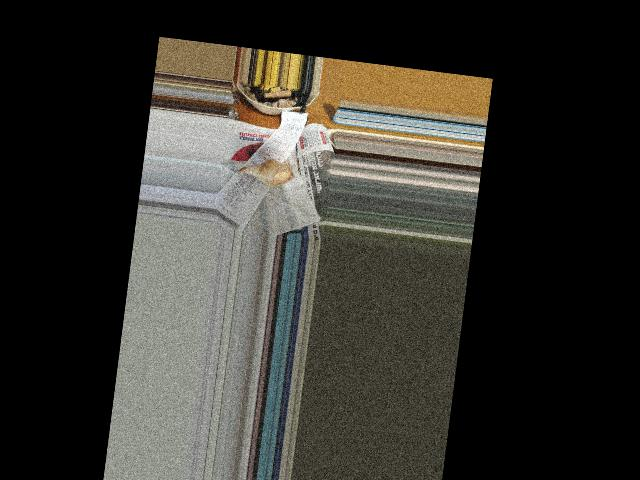onion: (255, 158, 293, 186)
